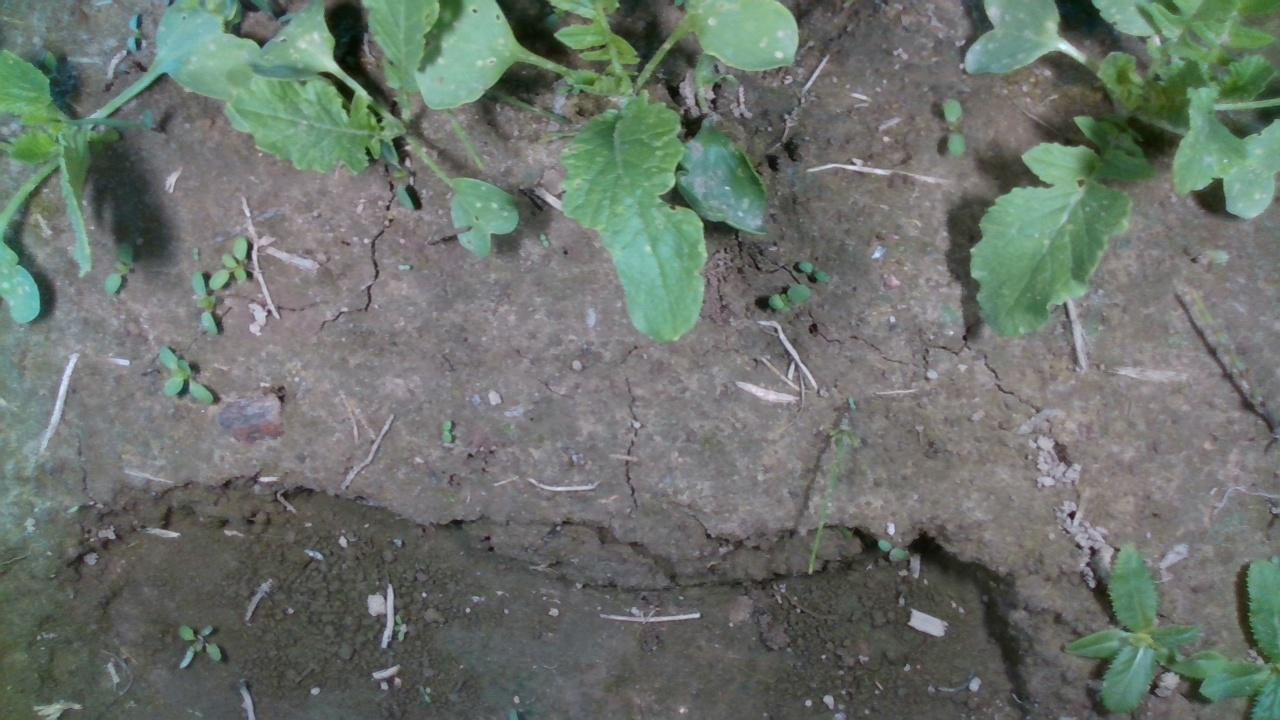weed: (157, 343, 213, 405), (176, 623, 221, 671), (101, 240, 133, 296), (940, 96, 966, 159), (767, 282, 810, 310), (795, 258, 828, 283), (876, 537, 908, 560), (439, 417, 451, 445), (537, 230, 549, 248), (189, 245, 199, 261)
